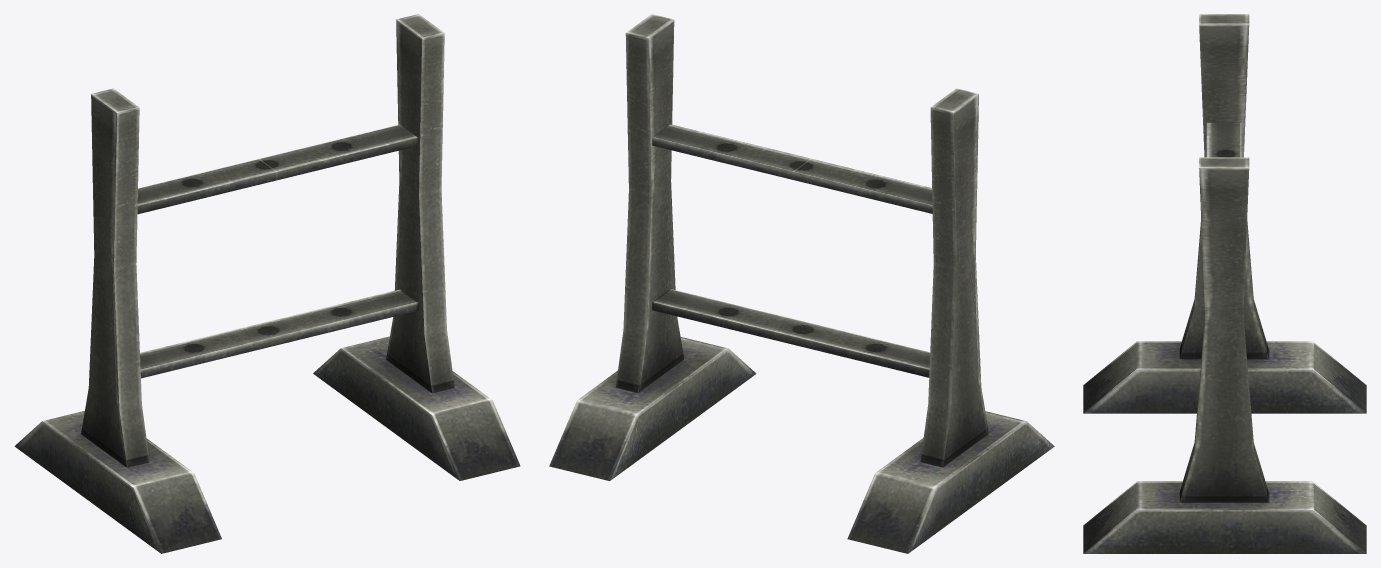
File: WeaponRack01_Maincity_001.FBX
3 renders of one model, left to right at view 1: azimuth 30°, elevation 25°; view 2: azimuth 150°, elevation 25°; view 3: azimuth 270°, elevation 25°, orthographic. The views are drawn at different scales.
Visible parts, largest first — view 1: WeaponRack01_Maincity_001; view 2: WeaponRack01_Maincity_001; view 3: WeaponRack01_Maincity_001.
Boxes of the visible parts, x1,y1,x2,y2 form: WeaponRack01_Maincity_001: [14, 14, 520, 553]; WeaponRack01_Maincity_001: [549, 14, 1054, 553]; WeaponRack01_Maincity_001: [1083, 14, 1366, 553].
Bounding box in the file's own units: 178 × 186 × 126.
Materials: 1 (1 with a texture image).
